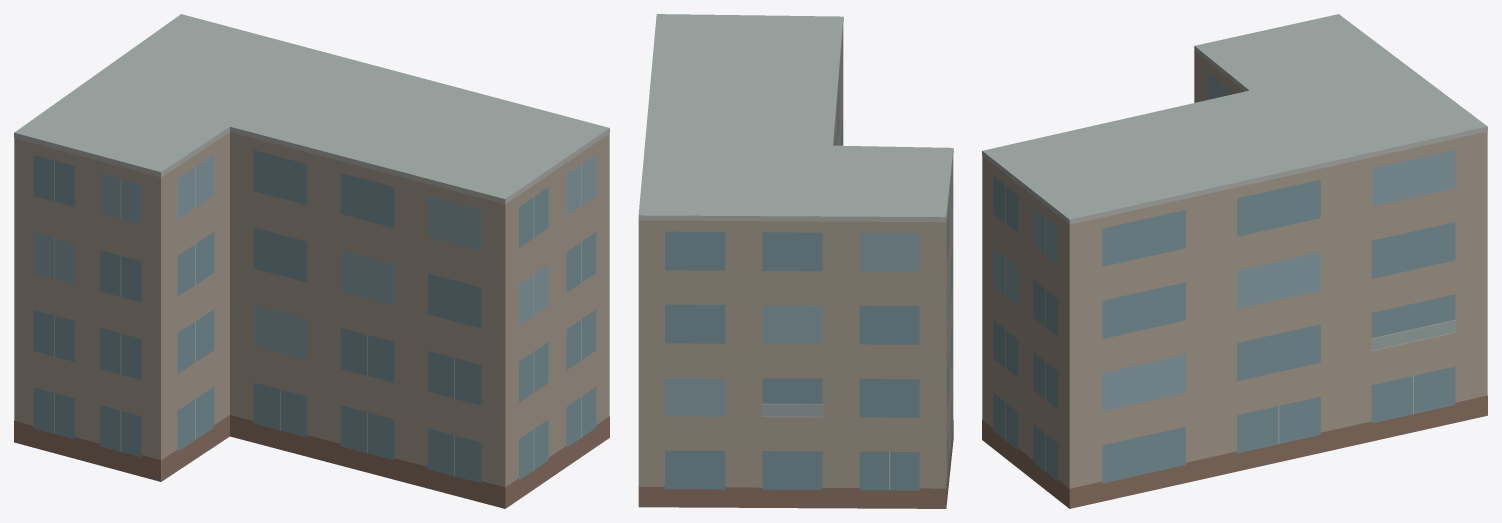
Rendered from survey-upis-32832238.glb.
3 renders of one model, left to right at view 1: azimuth 30°, elevation 25°; view 2: azimuth 150°, elevation 25°; view 3: azimuth 270°, elevation 25°, orthographic. The views are drawn at different scales.
Visible parts, largest first — view 1: survey-upis-32832238.tmp; view 2: survey-upis-32832238.tmp; view 3: survey-upis-32832238.tmp.
Boxes of the visible parts, x1,y1,x2,y2 form: survey-upis-32832238.tmp: (14, 14, 609, 508); survey-upis-32832238.tmp: (638, 14, 953, 508); survey-upis-32832238.tmp: (982, 14, 1487, 508).
Size of the model in its own units: 21.6 by 14.15 by 22.43.
